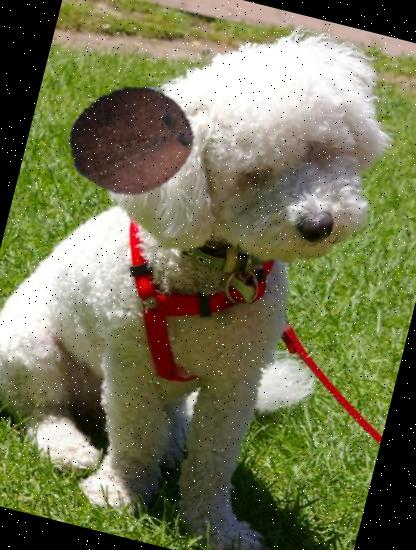Cocos: (53, 64, 209, 219)
